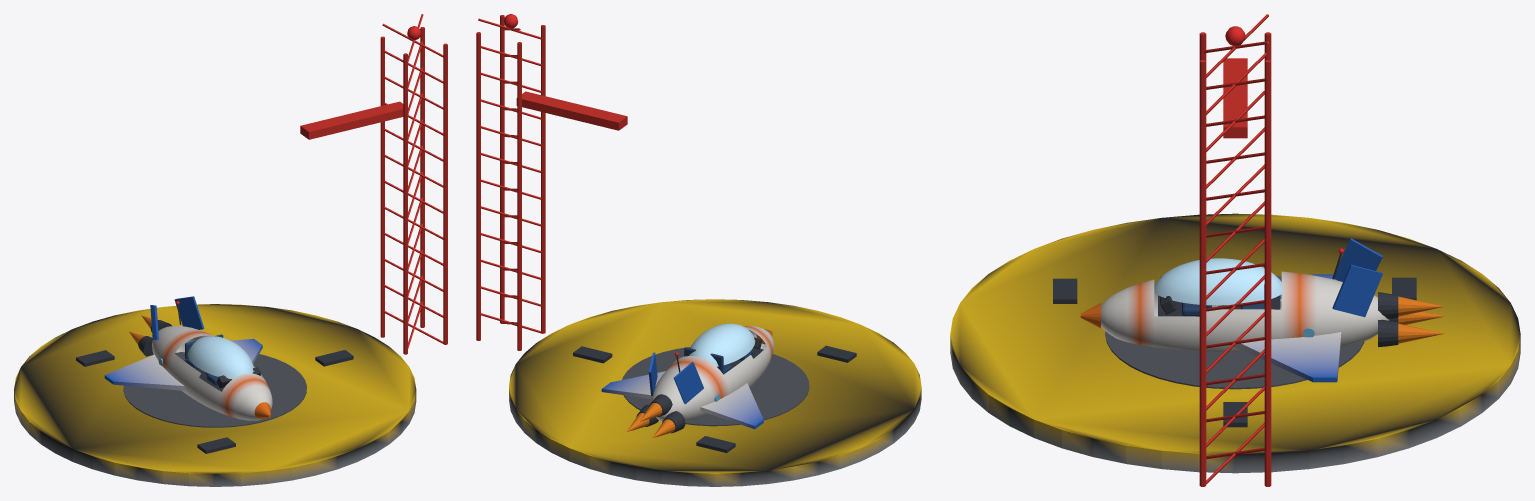
The model's file is espacio.glb.
3 renders of one model, left to right at view 1: azimuth 30°, elevation 25°; view 2: azimuth 150°, elevation 25°; view 3: azimuth 270°, elevation 25°, orthographic. The views are drawn at different scales.
Visible parts, largest first — view 1: Plataforma, Nave, Nave_Cupula; view 2: Plataforma, Nave, Nave_Cupula, Nave_Fuego; view 3: Plataforma, Nave, Nave_Cupula, Nave_Fuego.
Boxes of the visible parts, box(x1,y1,x2,y2) form: Plataforma: box(14, 14, 447, 486); Nave: box(104, 296, 272, 420); Nave_Cupula: box(187, 336, 253, 379); Plataforma: box(476, 14, 921, 486); Nave: box(601, 326, 773, 433); Nave_Cupula: box(689, 323, 755, 366); Nave_Fuego: box(627, 403, 675, 438); Plataforma: box(950, 14, 1520, 486); Nave: box(1080, 238, 1398, 382); Nave_Cupula: box(1154, 258, 1281, 305); Nave_Fuego: box(1398, 296, 1444, 343).
Size of the model in its own units: 15.87 by 13.05 by 14.
